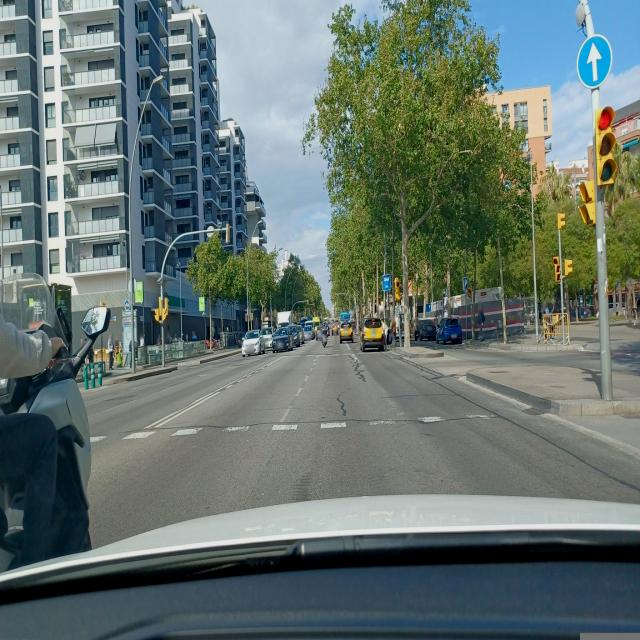bike: (0, 277, 110, 574), (320, 328, 328, 348)
car: (360, 316, 386, 352), (436, 316, 463, 346), (241, 330, 264, 358), (413, 318, 437, 342), (272, 328, 292, 353), (339, 321, 353, 344), (288, 325, 300, 349), (262, 327, 274, 350), (296, 324, 305, 346), (303, 323, 314, 340)
